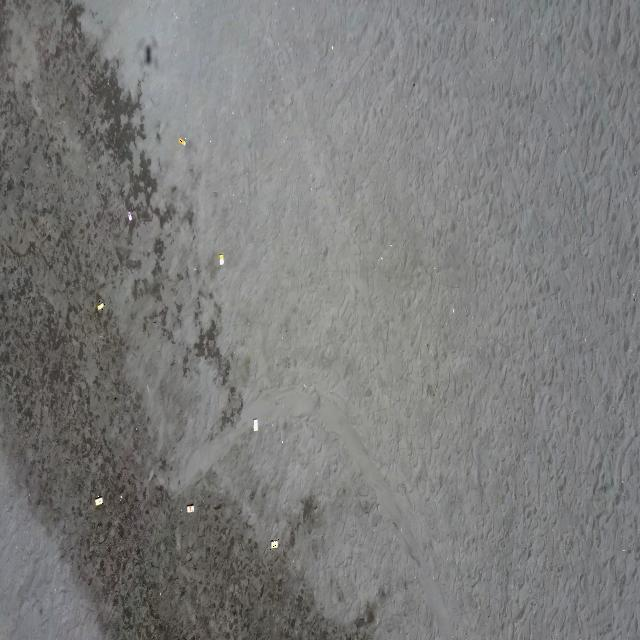Garbage: (145, 45, 151, 63), (94, 495, 103, 506), (216, 252, 223, 264), (96, 300, 103, 311), (252, 419, 258, 431), (178, 136, 186, 144), (270, 540, 278, 547), (187, 504, 192, 512), (127, 211, 131, 220), (119, 495, 123, 500)
